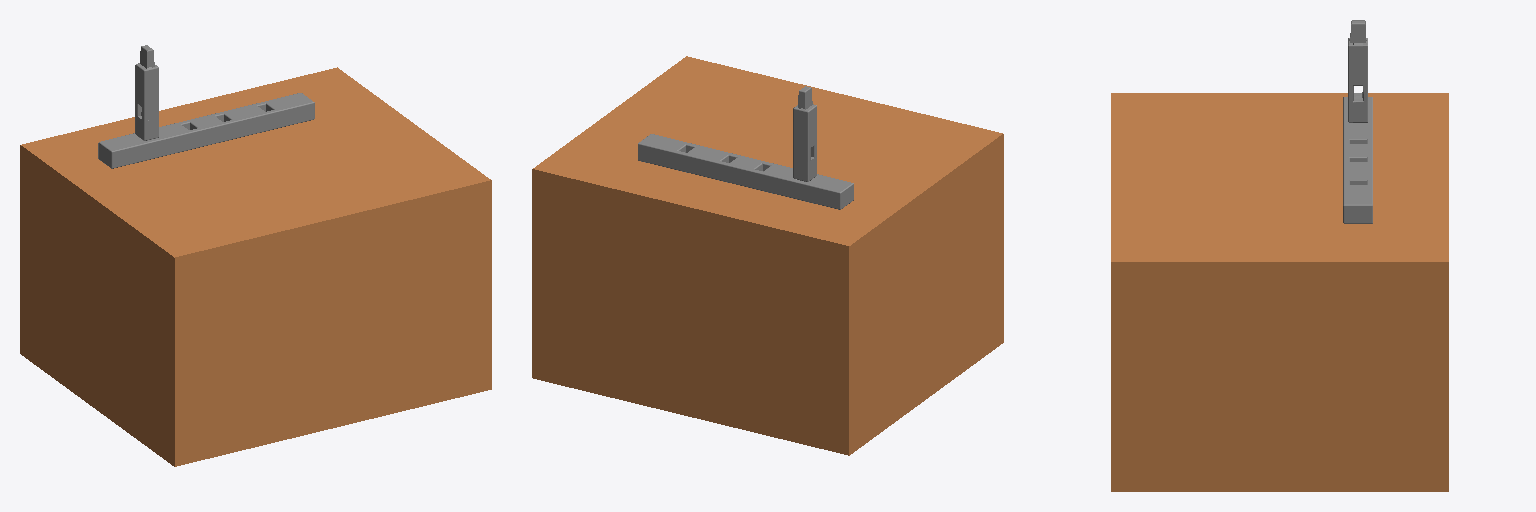
The robot description file, URDF, robot "table_beam_2x_0_scene_0046":
<?xml version="1.0"?>
<robot name="table_beam_2x_0_scene_0046">
  <link name="box">
    <visual>
      <material name="wood"><color rgba="0.82 0.56 0.35 1.0"/></material>
      <origin xyz="0 0 0"/>
      <geometry><box size="0.475 0.4 0.3"/></geometry>
    </visual>
    <collision>
      <origin xyz="0 0 0"/>
      <geometry><box size="0.475 0.4 0.3"/></geometry>
    </collision>
    <inertial>
      <mass value="500"/>
      <friction value="1.0"/>
      <inertia ixx="1000.0" ixy="0.0" ixz="0.0" iyy="1000.0" iyz="0.0" izz="1000.0"/>
    </inertial>
  </link>
  <link name="part_6_canonical">
    <visual>
      <origin xyz="0 0 0" rpy="0 0 0"/>
      <geometry><mesh filename="../../6/6_canonical.obj" scale="1 1 1"/></geometry>
      <material name="placed_0"><color rgba="0.6 0.6 0.6 1.0"/></material>
    </visual>
    <collision>
      <origin xyz="0 0 0" rpy="0 0 0"/>
      <geometry><mesh filename="../../6/6_canonical.obj" scale="1 1 1"/></geometry>
    </collision>
  </link>
  <joint name="part_6_canonical_joint" type="fixed">
    <parent link="box"/>
    <child link="part_6_canonical"/>
    <origin xyz="-0.020450 0.092797 0.162666" rpy="0.000000 0.000000 0.000000"/>
  </joint>
  <link name="part_2_hull_0">
    <visual>
      <origin xyz="0 0 0" rpy="0 0 0"/>
      <geometry><mesh filename="../../2/coacd/decomp_0.obj" scale="1 1 1"/></geometry>
      <material name="placed_1"><color rgba="0.6 0.6 0.6 1.0"/></material>
    </visual>
    <collision>
      <origin xyz="0 0 0" rpy="0 0 0"/>
      <geometry><mesh filename="../../2/coacd/decomp_0.obj" scale="1 1 1"/></geometry>
    </collision>
  </link>
  <joint name="part_2_hull_0_joint" type="fixed">
    <parent link="box"/>
    <child link="part_2_hull_0"/>
    <origin xyz="-0.109376 0.092797 0.225384" rpy="0.000000 -1.570796 0.000000"/>
  </joint>
  <link name="part_2_hull_1">
    <visual>
      <origin xyz="0 0 0" rpy="0 0 0"/>
      <geometry><mesh filename="../../2/coacd/decomp_1.obj" scale="1 1 1"/></geometry>
      <material name="placed_2"><color rgba="0.6 0.6 0.6 1.0"/></material>
    </visual>
    <collision>
      <origin xyz="0 0 0" rpy="0 0 0"/>
      <geometry><mesh filename="../../2/coacd/decomp_1.obj" scale="1 1 1"/></geometry>
    </collision>
  </link>
  <joint name="part_2_hull_1_joint" type="fixed">
    <parent link="box"/>
    <child link="part_2_hull_1"/>
    <origin xyz="-0.109376 0.092797 0.225384" rpy="0.000000 -1.570796 0.000000"/>
  </joint>
  <link name="part_2_hull_2">
    <visual>
      <origin xyz="0 0 0" rpy="0 0 0"/>
      <geometry><mesh filename="../../2/coacd/decomp_10.obj" scale="1 1 1"/></geometry>
      <material name="placed_3"><color rgba="0.6 0.6 0.6 1.0"/></material>
    </visual>
    <collision>
      <origin xyz="0 0 0" rpy="0 0 0"/>
      <geometry><mesh filename="../../2/coacd/decomp_10.obj" scale="1 1 1"/></geometry>
    </collision>
  </link>
  <joint name="part_2_hull_2_joint" type="fixed">
    <parent link="box"/>
    <child link="part_2_hull_2"/>
    <origin xyz="-0.109376 0.092797 0.225384" rpy="0.000000 -1.570796 0.000000"/>
  </joint>
  <link name="part_2_hull_3">
    <visual>
      <origin xyz="0 0 0" rpy="0 0 0"/>
      <geometry><mesh filename="../../2/coacd/decomp_11.obj" scale="1 1 1"/></geometry>
      <material name="placed_4"><color rgba="0.6 0.6 0.6 1.0"/></material>
    </visual>
    <collision>
      <origin xyz="0 0 0" rpy="0 0 0"/>
      <geometry><mesh filename="../../2/coacd/decomp_11.obj" scale="1 1 1"/></geometry>
    </collision>
  </link>
  <joint name="part_2_hull_3_joint" type="fixed">
    <parent link="box"/>
    <child link="part_2_hull_3"/>
    <origin xyz="-0.109376 0.092797 0.225384" rpy="0.000000 -1.570796 0.000000"/>
  </joint>
  <link name="part_2_hull_4">
    <visual>
      <origin xyz="0 0 0" rpy="0 0 0"/>
      <geometry><mesh filename="../../2/coacd/decomp_12.obj" scale="1 1 1"/></geometry>
      <material name="placed_5"><color rgba="0.6 0.6 0.6 1.0"/></material>
    </visual>
    <collision>
      <origin xyz="0 0 0" rpy="0 0 0"/>
      <geometry><mesh filename="../../2/coacd/decomp_12.obj" scale="1 1 1"/></geometry>
    </collision>
  </link>
  <joint name="part_2_hull_4_joint" type="fixed">
    <parent link="box"/>
    <child link="part_2_hull_4"/>
    <origin xyz="-0.109376 0.092797 0.225384" rpy="0.000000 -1.570796 0.000000"/>
  </joint>
  <link name="part_2_hull_5">
    <visual>
      <origin xyz="0 0 0" rpy="0 0 0"/>
      <geometry><mesh filename="../../2/coacd/decomp_13.obj" scale="1 1 1"/></geometry>
      <material name="placed_6"><color rgba="0.6 0.6 0.6 1.0"/></material>
    </visual>
    <collision>
      <origin xyz="0 0 0" rpy="0 0 0"/>
      <geometry><mesh filename="../../2/coacd/decomp_13.obj" scale="1 1 1"/></geometry>
    </collision>
  </link>
  <joint name="part_2_hull_5_joint" type="fixed">
    <parent link="box"/>
    <child link="part_2_hull_5"/>
    <origin xyz="-0.109376 0.092797 0.225384" rpy="0.000000 -1.570796 0.000000"/>
  </joint>
  <link name="part_2_hull_6">
    <visual>
      <origin xyz="0 0 0" rpy="0 0 0"/>
      <geometry><mesh filename="../../2/coacd/decomp_14.obj" scale="1 1 1"/></geometry>
      <material name="placed_7"><color rgba="0.6 0.6 0.6 1.0"/></material>
    </visual>
    <collision>
      <origin xyz="0 0 0" rpy="0 0 0"/>
      <geometry><mesh filename="../../2/coacd/decomp_14.obj" scale="1 1 1"/></geometry>
    </collision>
  </link>
  <joint name="part_2_hull_6_joint" type="fixed">
    <parent link="box"/>
    <child link="part_2_hull_6"/>
    <origin xyz="-0.109376 0.092797 0.225384" rpy="0.000000 -1.570796 0.000000"/>
  </joint>
  <link name="part_2_hull_7">
    <visual>
      <origin xyz="0 0 0" rpy="0 0 0"/>
      <geometry><mesh filename="../../2/coacd/decomp_15.obj" scale="1 1 1"/></geometry>
      <material name="placed_8"><color rgba="0.6 0.6 0.6 1.0"/></material>
    </visual>
    <collision>
      <origin xyz="0 0 0" rpy="0 0 0"/>
      <geometry><mesh filename="../../2/coacd/decomp_15.obj" scale="1 1 1"/></geometry>
    </collision>
  </link>
  <joint name="part_2_hull_7_joint" type="fixed">
    <parent link="box"/>
    <child link="part_2_hull_7"/>
    <origin xyz="-0.109376 0.092797 0.225384" rpy="0.000000 -1.570796 0.000000"/>
  </joint>
  <link name="part_2_hull_8">
    <visual>
      <origin xyz="0 0 0" rpy="0 0 0"/>
      <geometry><mesh filename="../../2/coacd/decomp_2.obj" scale="1 1 1"/></geometry>
      <material name="placed_9"><color rgba="0.6 0.6 0.6 1.0"/></material>
    </visual>
    <collision>
      <origin xyz="0 0 0" rpy="0 0 0"/>
      <geometry><mesh filename="../../2/coacd/decomp_2.obj" scale="1 1 1"/></geometry>
    </collision>
  </link>
  <joint name="part_2_hull_8_joint" type="fixed">
    <parent link="box"/>
    <child link="part_2_hull_8"/>
    <origin xyz="-0.109376 0.092797 0.225384" rpy="0.000000 -1.570796 0.000000"/>
  </joint>
  <link name="part_2_hull_9">
    <visual>
      <origin xyz="0 0 0" rpy="0 0 0"/>
      <geometry><mesh filename="../../2/coacd/decomp_3.obj" scale="1 1 1"/></geometry>
      <material name="placed_10"><color rgba="0.6 0.6 0.6 1.0"/></material>
    </visual>
    <collision>
      <origin xyz="0 0 0" rpy="0 0 0"/>
      <geometry><mesh filename="../../2/coacd/decomp_3.obj" scale="1 1 1"/></geometry>
    </collision>
  </link>
  <joint name="part_2_hull_9_joint" type="fixed">
    <parent link="box"/>
    <child link="part_2_hull_9"/>
    <origin xyz="-0.109376 0.092797 0.225384" rpy="0.000000 -1.570796 0.000000"/>
  </joint>
  <link name="part_2_hull_10">
    <visual>
      <origin xyz="0 0 0" rpy="0 0 0"/>
      <geometry><mesh filename="../../2/coacd/decomp_4.obj" scale="1 1 1"/></geometry>
      <material name="placed_11"><color rgba="0.6 0.6 0.6 1.0"/></material>
    </visual>
    <collision>
      <origin xyz="0 0 0" rpy="0 0 0"/>
      <geometry><mesh filename="../../2/coacd/decomp_4.obj" scale="1 1 1"/></geometry>
    </collision>
  </link>
  <joint name="part_2_hull_10_joint" type="fixed">
    <parent link="box"/>
    <child link="part_2_hull_10"/>
    <origin xyz="-0.109376 0.092797 0.225384" rpy="0.000000 -1.570796 0.000000"/>
  </joint>
  <link name="part_2_hull_11">
    <visual>
      <origin xyz="0 0 0" rpy="0 0 0"/>
      <geometry><mesh filename="../../2/coacd/decomp_5.obj" scale="1 1 1"/></geometry>
      <material name="placed_12"><color rgba="0.6 0.6 0.6 1.0"/></material>
    </visual>
    <collision>
      <origin xyz="0 0 0" rpy="0 0 0"/>
      <geometry><mesh filename="../../2/coacd/decomp_5.obj" scale="1 1 1"/></geometry>
    </collision>
  </link>
  <joint name="part_2_hull_11_joint" type="fixed">
    <parent link="box"/>
    <child link="part_2_hull_11"/>
    <origin xyz="-0.109376 0.092797 0.225384" rpy="0.000000 -1.570796 0.000000"/>
  </joint>
  <link name="part_2_hull_12">
    <visual>
      <origin xyz="0 0 0" rpy="0 0 0"/>
      <geometry><mesh filename="../../2/coacd/decomp_6.obj" scale="1 1 1"/></geometry>
      <material name="placed_13"><color rgba="0.6 0.6 0.6 1.0"/></material>
    </visual>
    <collision>
      <origin xyz="0 0 0" rpy="0 0 0"/>
      <geometry><mesh filename="../../2/coacd/decomp_6.obj" scale="1 1 1"/></geometry>
    </collision>
  </link>
  <joint name="part_2_hull_12_joint" type="fixed">
    <parent link="box"/>
    <child link="part_2_hull_12"/>
    <origin xyz="-0.109376 0.092797 0.225384" rpy="0.000000 -1.570796 0.000000"/>
  </joint>
  <link name="part_2_hull_13">
    <visual>
      <origin xyz="0 0 0" rpy="0 0 0"/>
      <geometry><mesh filename="../../2/coacd/decomp_7.obj" scale="1 1 1"/></geometry>
      <material name="placed_14"><color rgba="0.6 0.6 0.6 1.0"/></material>
    </visual>
    <collision>
      <origin xyz="0 0 0" rpy="0 0 0"/>
      <geometry><mesh filename="../../2/coacd/decomp_7.obj" scale="1 1 1"/></geometry>
    </collision>
  </link>
  <joint name="part_2_hull_13_joint" type="fixed">
    <parent link="box"/>
    <child link="part_2_hull_13"/>
    <origin xyz="-0.109376 0.092797 0.225384" rpy="0.000000 -1.570796 0.000000"/>
  </joint>
  <link name="part_2_hull_14">
    <visual>
      <origin xyz="0 0 0" rpy="0 0 0"/>
      <geometry><mesh filename="../../2/coacd/decomp_8.obj" scale="1 1 1"/></geometry>
      <material name="placed_15"><color rgba="0.6 0.6 0.6 1.0"/></material>
    </visual>
    <collision>
      <origin xyz="0 0 0" rpy="0 0 0"/>
      <geometry><mesh filename="../../2/coacd/decomp_8.obj" scale="1 1 1"/></geometry>
    </collision>
  </link>
  <joint name="part_2_hull_14_joint" type="fixed">
    <parent link="box"/>
    <child link="part_2_hull_14"/>
    <origin xyz="-0.109376 0.092797 0.225384" rpy="0.000000 -1.570796 0.000000"/>
  </joint>
  <link name="part_2_hull_15">
    <visual>
      <origin xyz="0 0 0" rpy="0 0 0"/>
      <geometry><mesh filename="../../2/coacd/decomp_9.obj" scale="1 1 1"/></geometry>
      <material name="placed_16"><color rgba="0.6 0.6 0.6 1.0"/></material>
    </visual>
    <collision>
      <origin xyz="0 0 0" rpy="0 0 0"/>
      <geometry><mesh filename="../../2/coacd/decomp_9.obj" scale="1 1 1"/></geometry>
    </collision>
  </link>
  <joint name="part_2_hull_15_joint" type="fixed">
    <parent link="box"/>
    <child link="part_2_hull_15"/>
    <origin xyz="-0.109376 0.092797 0.225384" rpy="0.000000 -1.570796 0.000000"/>
  </joint>
</robot>

--- Render facts (derived) ---
Views: 3 orthographic renders of the robot side by side, from view 1: azimuth 30°, elevation 25°; view 2: azimuth 150°, elevation 25°; view 3: azimuth 270°, elevation 25°.
Robot: table_beam_2x_0_scene_0046 — 18 links, 17 joints (17 fixed); root link box; default pose: every joint at zero.
Links seen in each view (by area): view 1: box, part_6_canonical, part_2_hull_1; view 2: box, part_6_canonical, part_2_hull_1; view 3: box, part_6_canonical.
Boxes of the visible links, x1=… form: box: x1=20, y1=67, x2=491, y2=466; part_6_canonical: x1=98, y1=93, x2=314, y2=168; part_2_hull_1: x1=135, y1=63, x2=147, y2=108; box: x1=532, y1=56, x2=1003, y2=455; part_6_canonical: x1=638, y1=134, x2=853, y2=209; part_2_hull_1: x1=804, y1=104, x2=816, y2=149; box: x1=1111, y1=93, x2=1448, y2=491; part_6_canonical: x1=1343, y1=97, x2=1372, y2=223.
Size in the robot's own frame: 0.475 by 0.4 by 0.4524 metres.
Meshes: 17 distinct files referenced, 17 mesh visuals loaded (17 OBJ).
